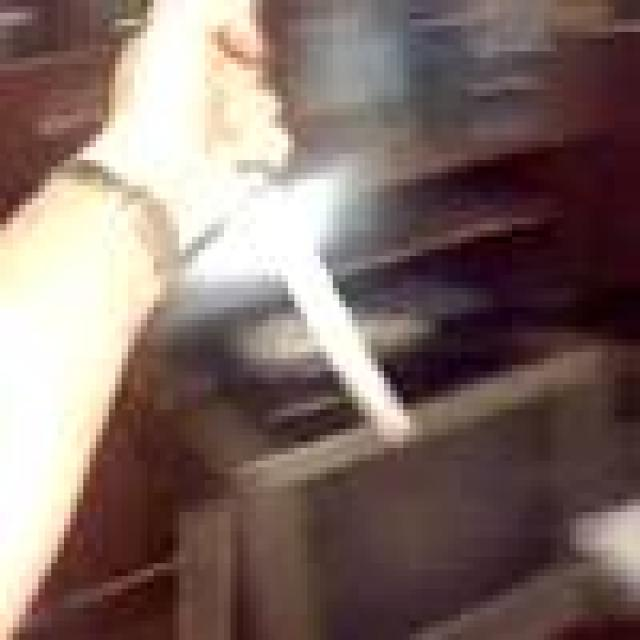knife: (234, 180, 439, 454)
